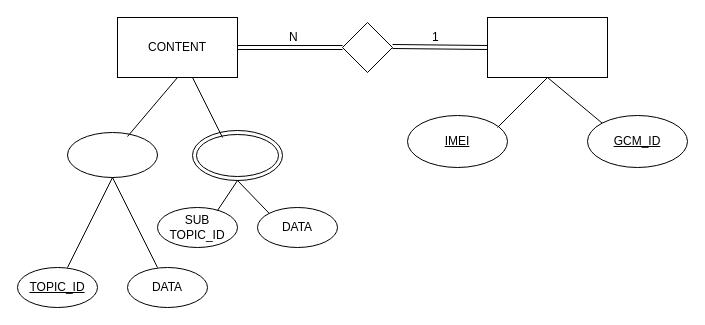
The diagram is 705 pixels wide and 325 high, and some of its shapes have lost their labels. The box of each missing label's shape, as (x1, y1, x2, y2) in pixels:
MDS USER: (486, 16, 608, 78)
REQUESTS: (342, 22, 392, 72)
SUB TOPIC: (192, 130, 282, 180)
TOPIC: (66, 132, 158, 178)
